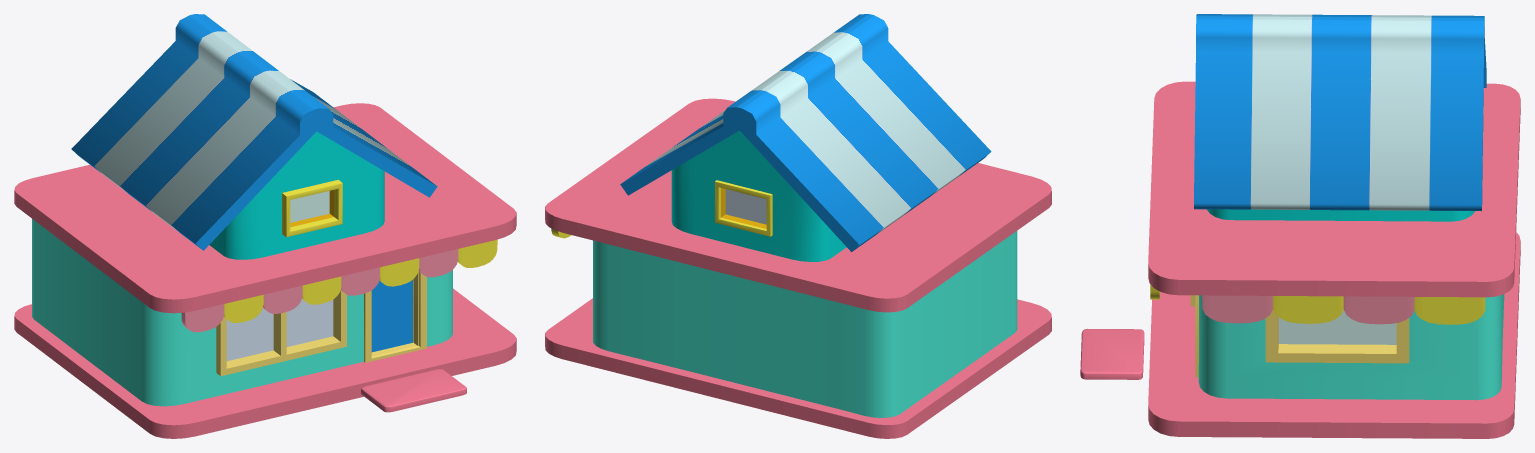
Rendered from DefaultHome.fbx.
3 views of the same model, side by side, from view 1: azimuth 30°, elevation 25°; view 2: azimuth 150°, elevation 25°; view 3: azimuth 270°, elevation 25° (orthographic). The views are drawn at different scales.
Visible parts, largest first — view 1: Cube.007, Cube.020; view 2: Cube.007, Cube.020; view 3: Cube.007, Cube.020.
Part boxes in pixels (box(x1,y1,x2,y2)): Cube.007: box(14, 103, 516, 438); Cube.020: box(71, 14, 437, 259); Cube.007: box(545, 98, 1051, 438); Cube.020: box(620, 14, 991, 261); Cube.007: box(1080, 81, 1520, 438); Cube.020: box(1194, 14, 1486, 221).
Bounding box in the file's own units: 264 × 193 × 245.
